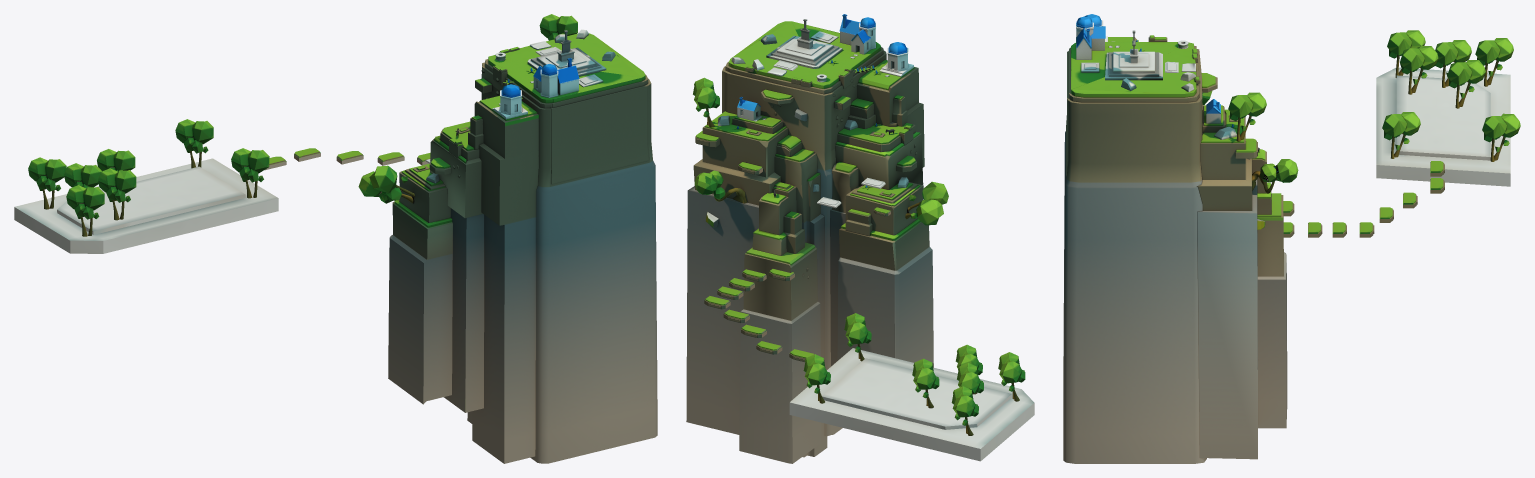
The model's file is level3.fbx.
3 renders of one model, left to right at view 1: azimuth 30°, elevation 25°; view 2: azimuth 150°, elevation 25°; view 3: azimuth 270°, elevation 25°, orthographic. The views are drawn at different scales.
Parts seen in each view (by area): view 1: SM_Mounain_Cloud_0, SM_Mounain_Cloud_0.028, SM_Houses_1_0, SM_Mounain_Cloud_0.038, SM_Mounain_Cloud_0.031, SM_Mounain_Cloud_0.036, SM_Mounain_Cloud_0.033, SM_Mounain_Cloud_0.035, SM_Mounain_Cloud_0.034, SM_Mounain_Cloud_0.037, SM_Mounain_Cloud_0.029, SM_Mounain_Cloud_0.032; view 2: SM_Mounain_Cloud_0, SM_Mounain_Cloud_0.028, SM_Houses_1_0, SM_Mounain_Cloud_0.038, SM_Mounain_Cloud_0.032, SM_Mounain_Cloud_0.036, SM_Mounain_Cloud_0.033, SM_Mounain_Cloud_0.029, SM_Mounain_Cloud_0.034, SM_Mounain_Cloud_0.035, SM_Mounain_Cloud_0.037, SM_Mounain_Cloud_0.031; view 3: SM_Mounain_Cloud_0, SM_Mounain_Cloud_0.028, SM_Houses_1_0, SM_Mounain_Cloud_0.031, SM_Mounain_Cloud_0.029, SM_Mounain_Cloud_0.032, SM_Mounain_Cloud_0.034, SM_Mounain_Cloud_0.035, SM_Mounain_Cloud_0.033, SM_Mounain_Cloud_0.037, SM_Mounain_Cloud_0.036.
Boxes of the visible parts, left/top/right/bottom form: SM_Mounain_Cloud_0: left=388, top=29, right=657, bottom=463; SM_Mounain_Cloud_0.028: left=14, top=158, right=278, bottom=253; SM_Houses_1_0: left=492, top=58, right=579, bottom=119; SM_Mounain_Cloud_0.038: left=358, top=165, right=414, bottom=203; SM_Mounain_Cloud_0.031: left=98, top=168, right=136, bottom=220; SM_Mounain_Cloud_0.036: left=66, top=185, right=104, bottom=236; SM_Mounain_Cloud_0.033: left=28, top=157, right=66, bottom=209; SM_Mounain_Cloud_0.035: left=231, top=148, right=269, bottom=198; SM_Mounain_Cloud_0.034: left=175, top=119, right=213, bottom=168; SM_Mounain_Cloud_0.037: left=64, top=163, right=101, bottom=188; SM_Mounain_Cloud_0.029: left=539, top=14, right=577, bottom=40; SM_Mounain_Cloud_0.032: left=97, top=149, right=135, bottom=200; SM_Mounain_Cloud_0: left=686, top=19, right=933, bottom=463; SM_Mounain_Cloud_0.028: left=789, top=348, right=1034, bottom=461; SM_Houses_1_0: left=737, top=14, right=913, bottom=121; SM_Mounain_Cloud_0.038: left=905, top=181, right=948, bottom=225; SM_Mounain_Cloud_0.032: left=912, top=358, right=939, bottom=408; SM_Mounain_Cloud_0.036: left=998, top=352, right=1025, bottom=401; SM_Mounain_Cloud_0.033: left=951, top=386, right=978, bottom=435; SM_Mounain_Cloud_0.029: left=693, top=77, right=719, bottom=127; SM_Mounain_Cloud_0.034: left=803, top=354, right=830, bottom=403; SM_Mounain_Cloud_0.035: left=844, top=313, right=871, bottom=361; SM_Mounain_Cloud_0.037: left=957, top=362, right=983, bottom=393; SM_Mounain_Cloud_0.031: left=955, top=344, right=982, bottom=394; SM_Mounain_Cloud_0: left=1063, top=30, right=1298, bottom=463; SM_Mounain_Cloud_0.028: left=1376, top=67, right=1510, bottom=186; SM_Houses_1_0: left=1076, top=14, right=1220, bottom=123; SM_Mounain_Cloud_0.031: left=1400, top=46, right=1438, bottom=94; SM_Mounain_Cloud_0.029: left=1228, top=92, right=1266, bottom=141; SM_Mounain_Cloud_0.032: left=1447, top=60, right=1485, bottom=108; SM_Mounain_Cloud_0.034: left=1482, top=113, right=1520, bottom=161; SM_Mounain_Cloud_0.035: left=1382, top=112, right=1420, bottom=158; SM_Mounain_Cloud_0.033: left=1475, top=38, right=1513, bottom=86; SM_Mounain_Cloud_0.037: left=1435, top=40, right=1471, bottom=87; SM_Mounain_Cloud_0.036: left=1387, top=30, right=1425, bottom=77.
Bounding box in the file's own units: 10244 × 9295 × 9240.
Materials: 2 (2 with a texture image).
